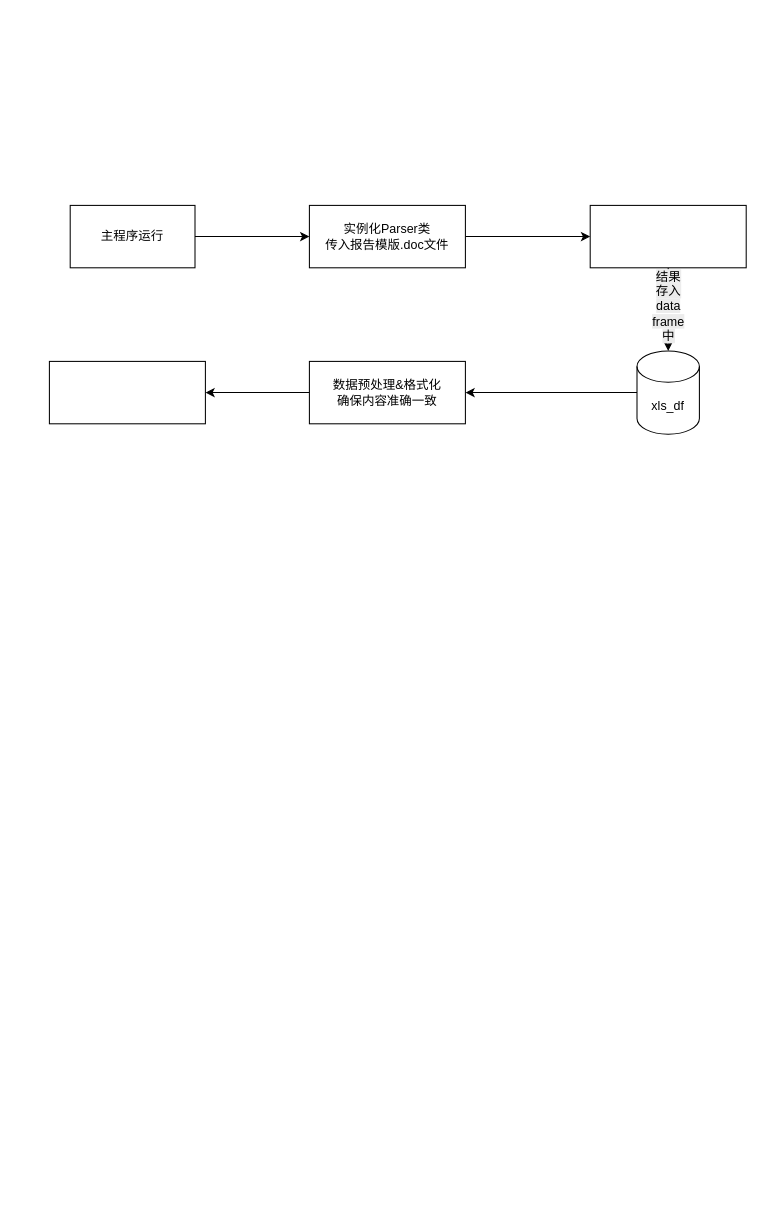
This 764x1221 diagram has some shape labels left out. The centre of each missing label's shape, as x and y in pixels:
"数据映射到 测试报告模版.doc文件中" goes at point 126,392.
"读取测试数据文件xls" goes at point 667,236.
